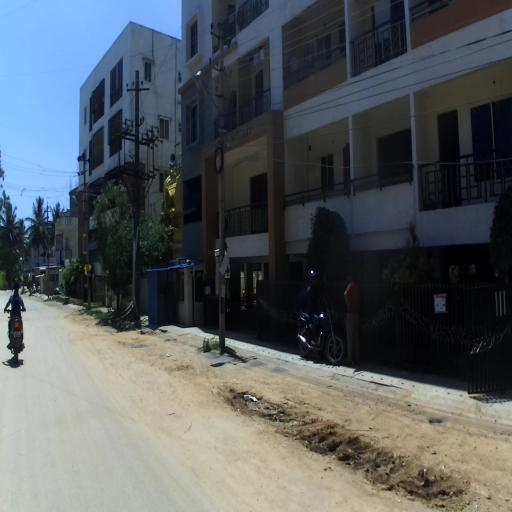street_light_0: (72, 195, 88, 220)
